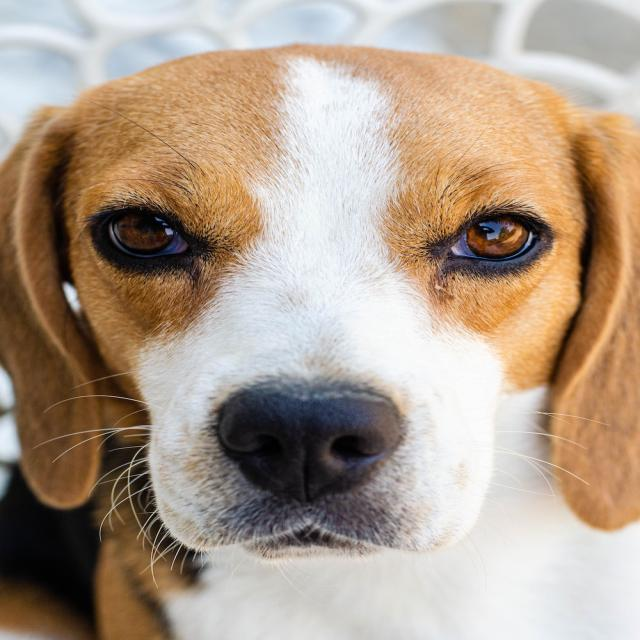beagle: (2, 41, 640, 589)
